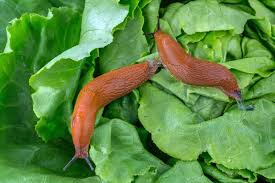slug: (60, 59, 157, 171), (147, 26, 242, 99)
